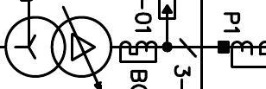11522_tx_dyn1: (4, 15, 113, 79)
